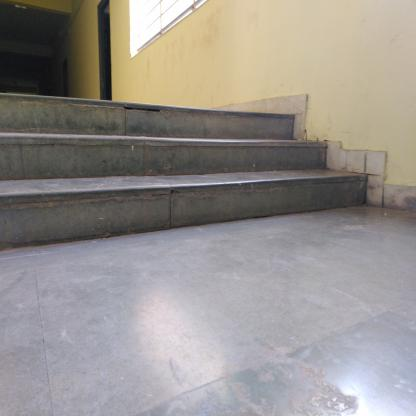stairs: (1, 104, 296, 223)
